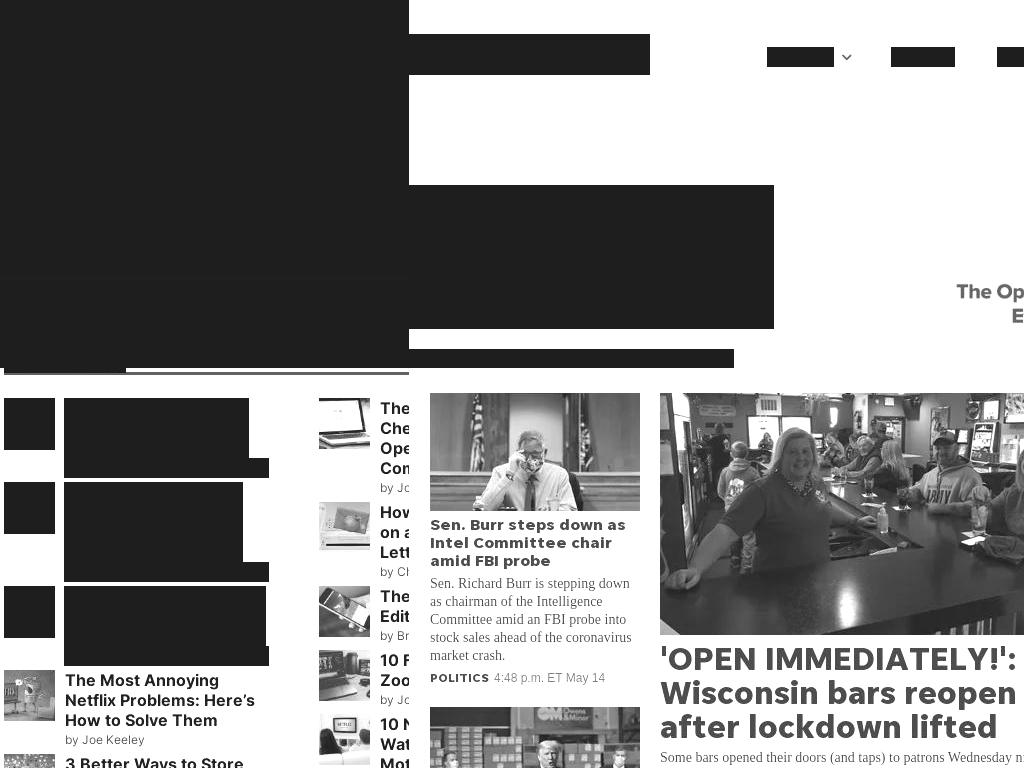button: (660, 393, 1024, 768), (430, 393, 640, 685), (430, 707, 640, 768), (318, 398, 370, 450), (318, 502, 370, 554), (318, 586, 370, 638), (318, 650, 370, 702), (318, 714, 370, 766), (4, 398, 55, 450), (4, 482, 55, 534), (4, 586, 55, 638), (4, 670, 55, 722), (4, 754, 55, 768)
heading: (409, 185, 774, 329), (0, 302, 409, 351), (64, 482, 243, 563), (64, 586, 266, 647), (64, 670, 255, 731), (64, 398, 249, 459), (64, 754, 244, 768)
image: (0, 0, 409, 274), (660, 393, 1024, 635), (783, 150, 1024, 368), (430, 393, 640, 511), (430, 707, 640, 768), (409, 34, 650, 75), (318, 398, 370, 450), (318, 502, 370, 554), (318, 586, 370, 638), (318, 650, 370, 702), (318, 714, 370, 766), (4, 398, 55, 450), (4, 482, 55, 534), (4, 586, 55, 638), (4, 670, 55, 722), (4, 754, 55, 768)
link: (767, 47, 834, 67), (891, 47, 955, 67), (997, 47, 1024, 67)
text: (660, 641, 1024, 743), (430, 515, 640, 665), (64, 458, 269, 478), (64, 562, 269, 582), (64, 646, 269, 666), (64, 730, 269, 750), (409, 349, 467, 368)
